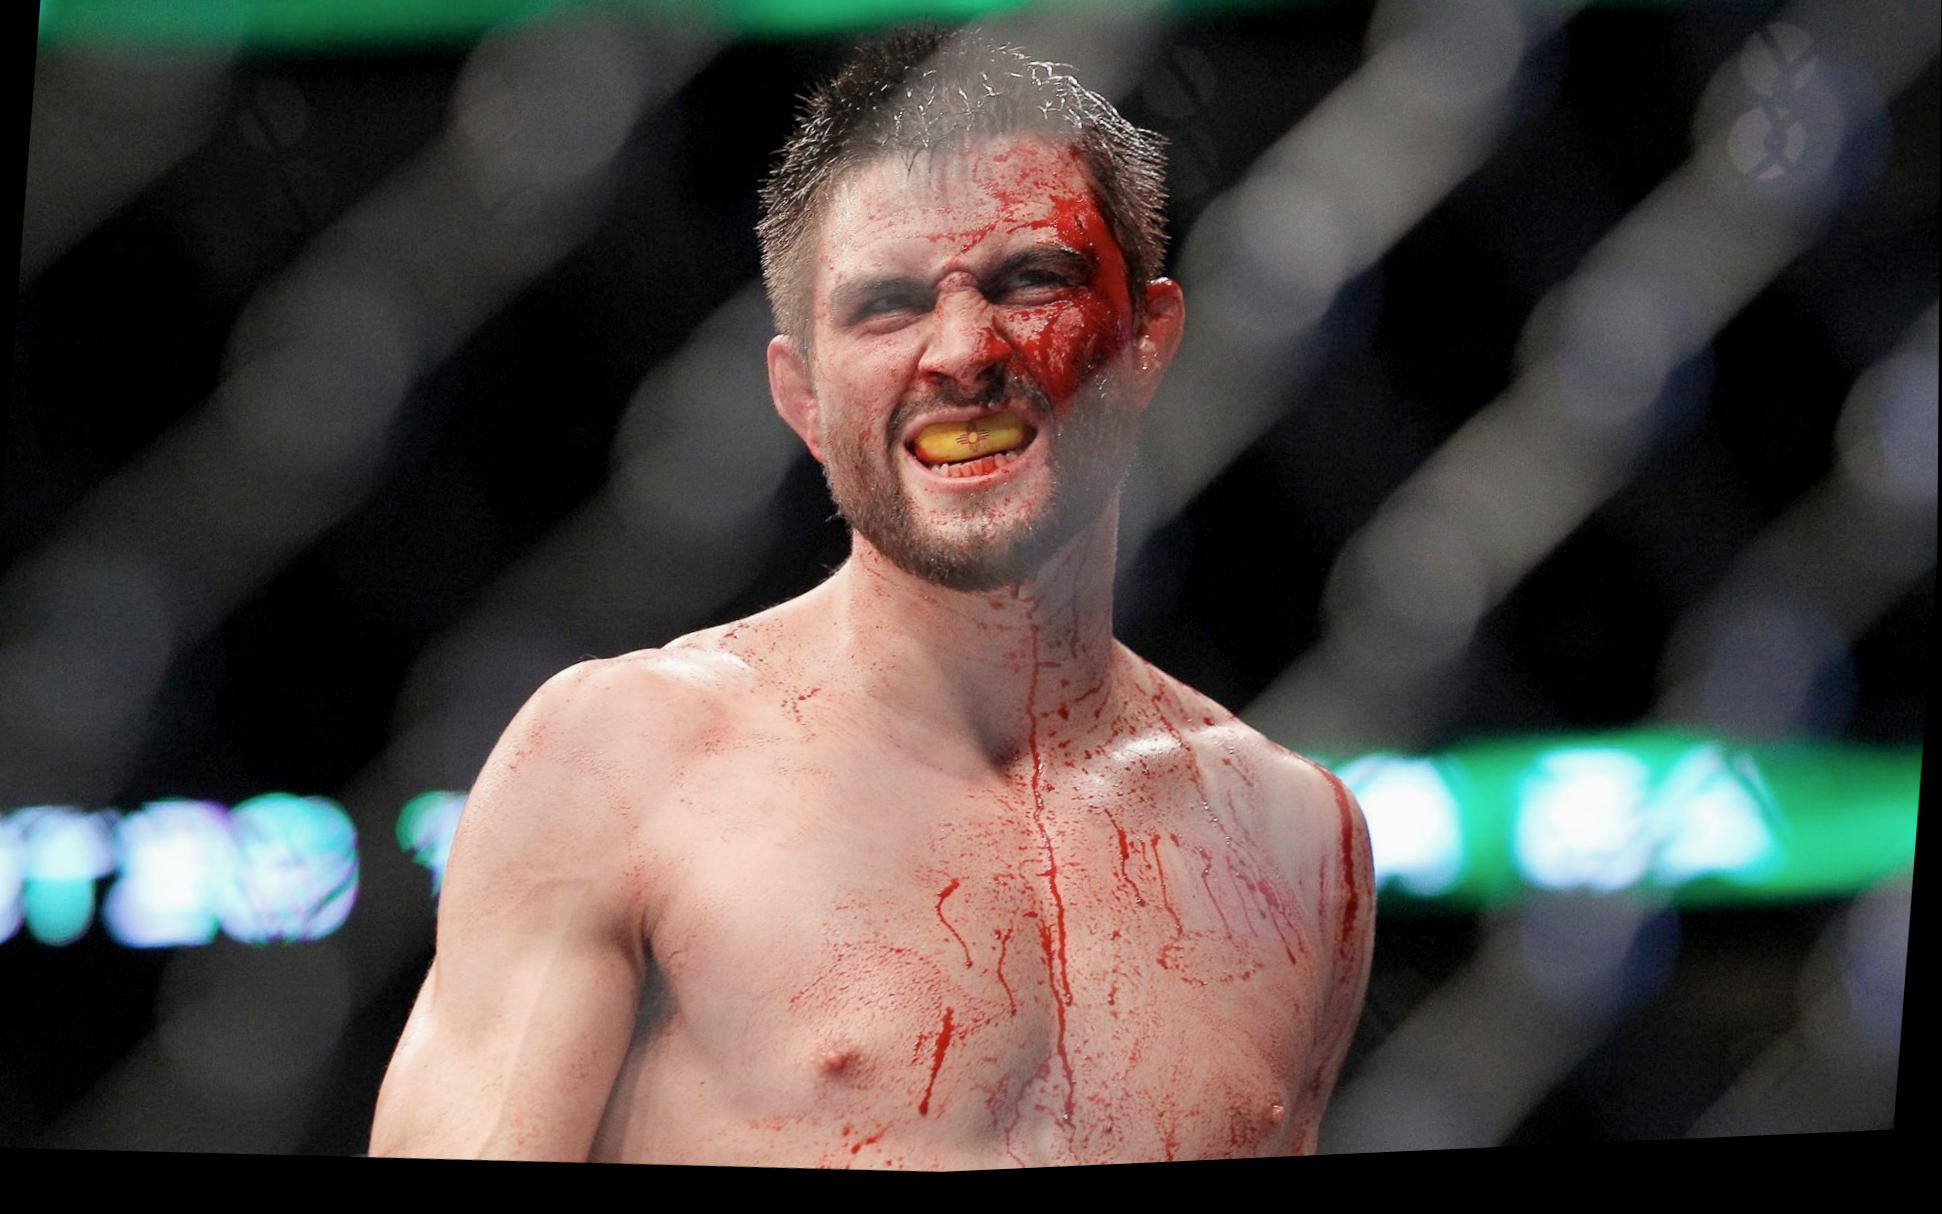Fire: (652, 144, 1374, 1180)
